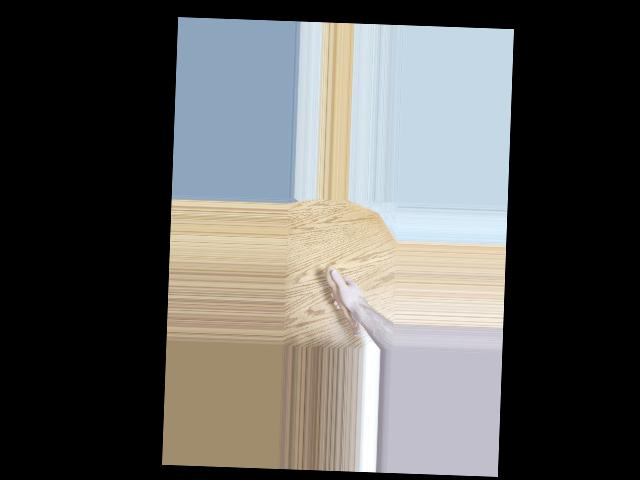sweet_potato: (321, 264, 364, 340)
